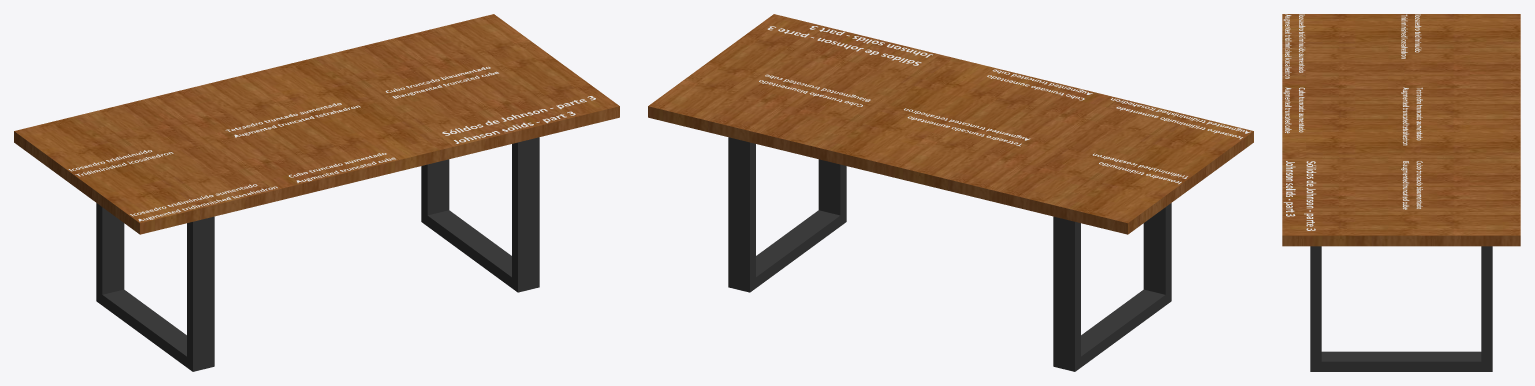
File: johnson3a.glb
3 views of the same model, side by side, from view 1: azimuth 30°, elevation 25°; view 2: azimuth 150°, elevation 25°; view 3: azimuth 270°, elevation 25° (orthographic). The views are drawn at different scales.
Parts seen in each view (by area): view 1: object 1, Composant#1 (×2), Sólidos de Johns#2, Icosaedro tridim#1, Tetraedro trunca, Cubo truncado bi; view 2: object 1, Composant#1 (×2), Sólidos de Johns#2, Icosaedro tridim#1, Tetraedro trunca, Cubo truncado bi; view 3: object 1, Composant#1, Sólidos de Johns#2, Icosaedro tridim#1, Tetraedro trunca, Cubo truncado bi, Icosaedro tridim, Cubo truncado au.
Part boxes in pixels (x1,y1,x2,y2): object 1: (14,14,619,234); Composant#1 (×2): (96,137,539,371); Sólidos de Johns#2: (442,96,595,143); Icosaedro tridim#1: (130,184,277,221); Tetraedro trunca: (225,103,360,137); Cubo truncado bi: (385,66,498,98); object 1: (648,14,1253,234); Composant#1 (×2): (728,137,1171,371); Sólidos de Johns#2: (767,26,932,65); Icosaedro tridim#1: (1111,98,1250,139); Tetraedro trunca: (904,108,1030,146); Cubo truncado bi: (759,74,870,106); object 1: (1282,14,1520,246); Composant#1: (1310,246,1492,371); Sólidos de Johns#2: (1283,161,1316,230); Icosaedro tridim#1: (1283,14,1305,78); Tetraedro trunca: (1401,87,1422,145); Cubo truncado bi: (1401,161,1422,209); Icosaedro tridim: (1401,14,1421,58); Cubo truncado au: (1283,87,1305,133).
Bounding box in the file's own units: 2.2 × 0.7711 × 1.
Materials: 3 (1 with a texture image).
